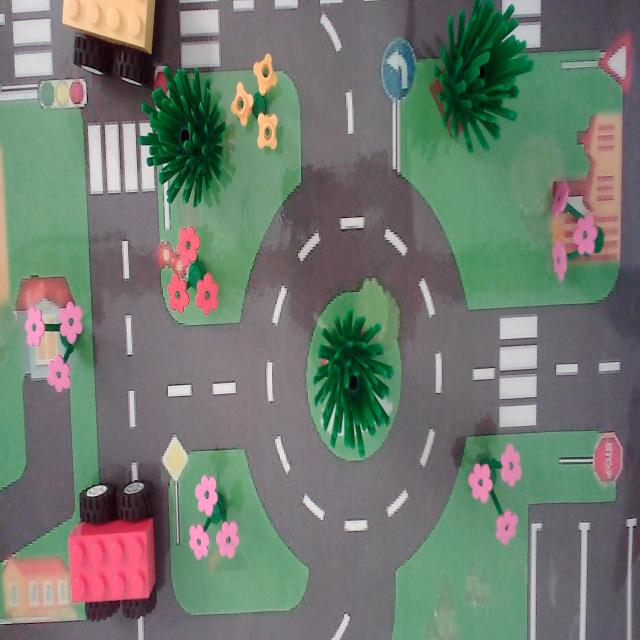Car: (64, 453, 163, 640), (53, 0, 165, 106)
Flower: (538, 157, 614, 298), (153, 208, 232, 336), (17, 281, 97, 402), (178, 460, 250, 572), (460, 431, 529, 542), (229, 36, 287, 163)
Tree: (424, 0, 528, 192), (303, 300, 403, 470), (140, 48, 232, 230)
